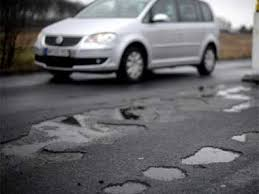potholes: (14, 89, 160, 171), (97, 127, 259, 189)
